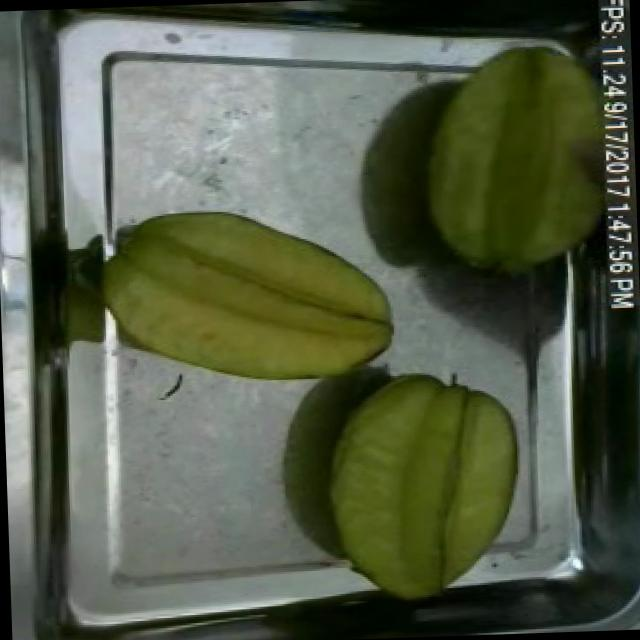fruit: (85, 193, 407, 402), (308, 354, 542, 618), (406, 25, 622, 288)
